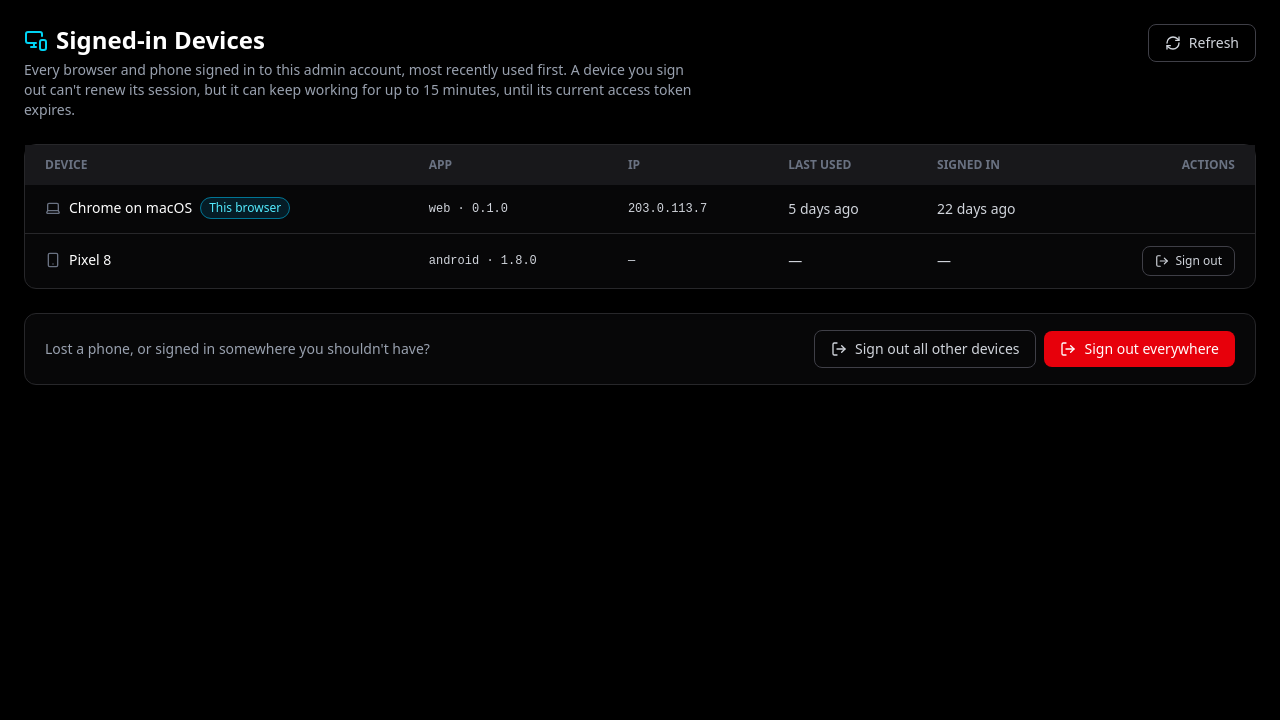
Test case: DevicesSection › signs one device out after confirming, and says it may notice late
This screenshot has width=1280, height=720.
Step 1. Click the button with aria-label "Sign out Pixel 8" → click(1189, 261), box [1142,246,1235,276]
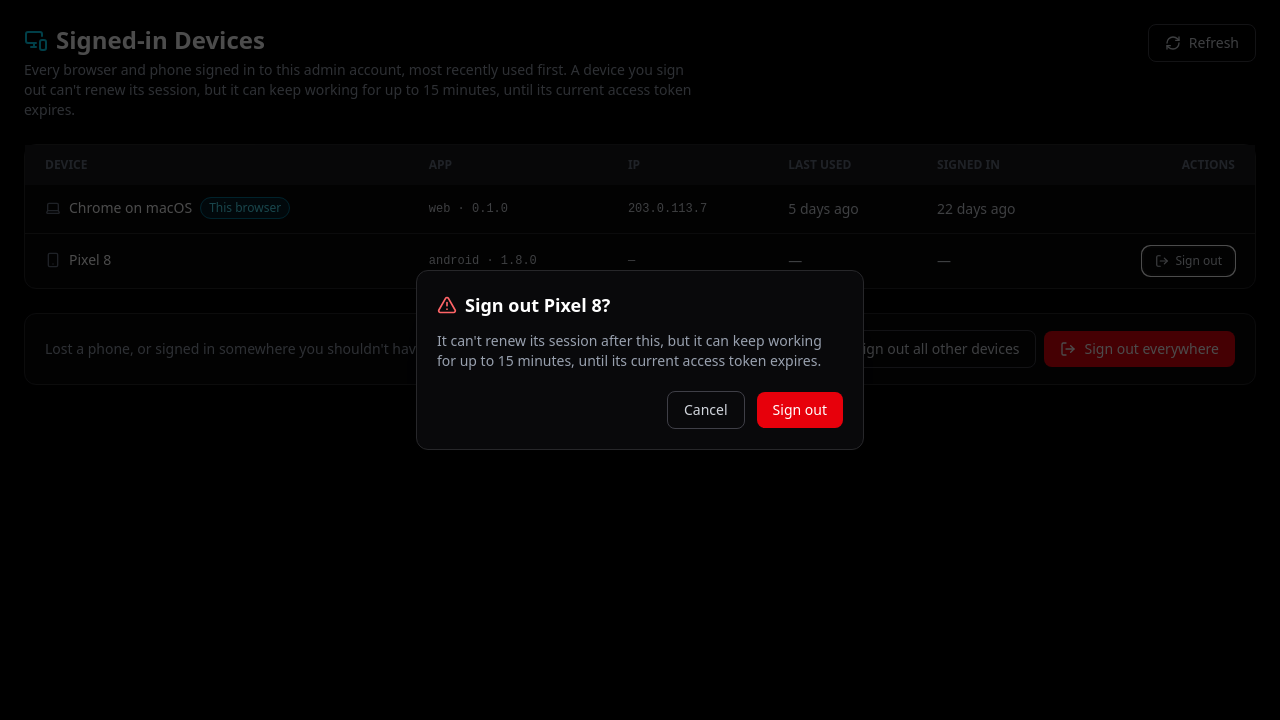
Expected: the text "up to 15 minutes" is shown, [437,331,822,370]
Step 2. Click the button "Sign out" → click(800, 410), box [757,392,843,428]
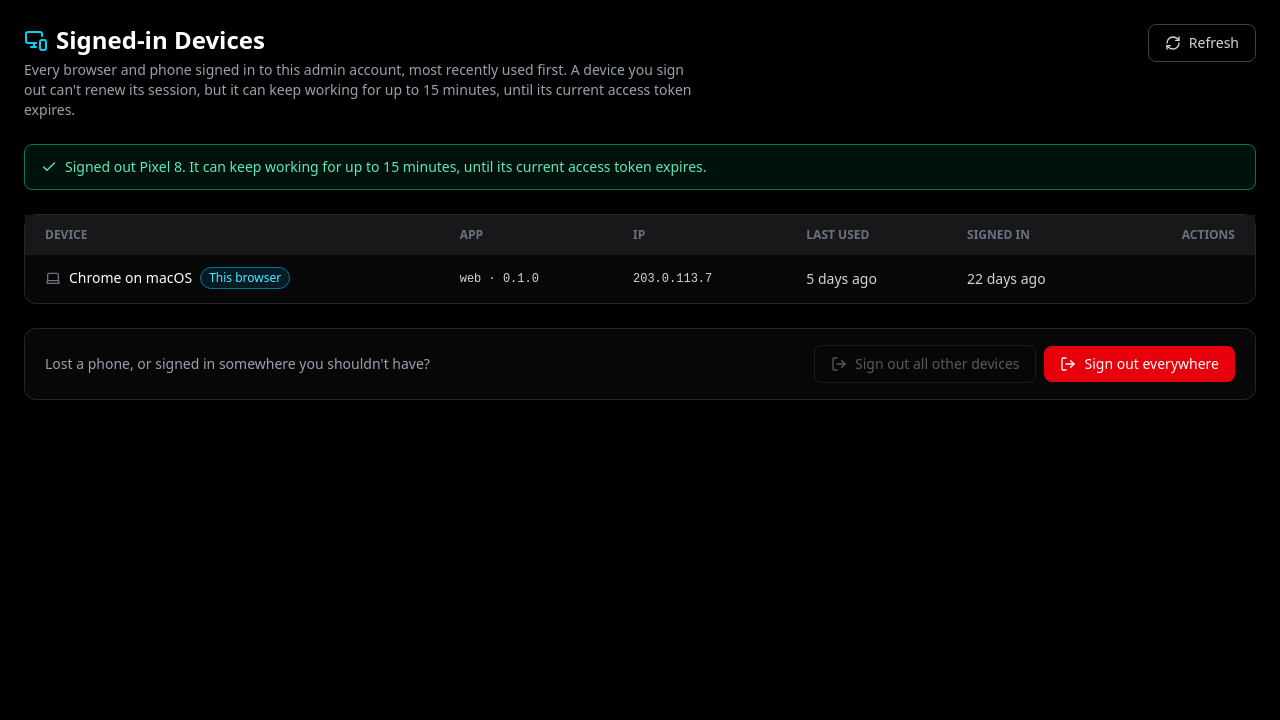
Expected: the text "Signed out Pixel 8. It can keep working for up to 15 minutes" is shown, [65,157,706,176]
Expected: the dialog is gone
